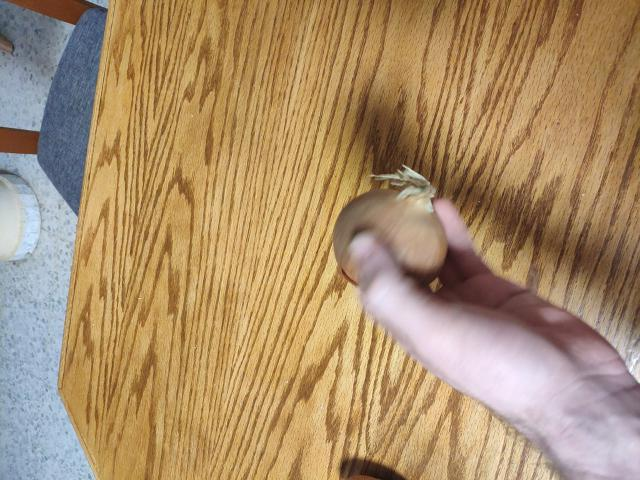onion: (338, 196, 428, 285)
